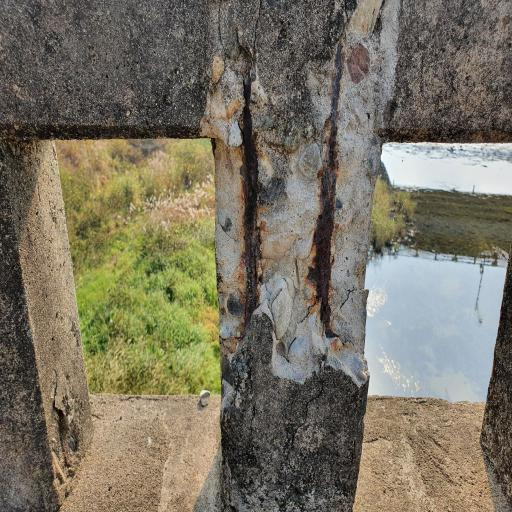exposed_rebar: (309, 43, 344, 336), (242, 66, 259, 327)
spalling: (204, 0, 398, 386)
